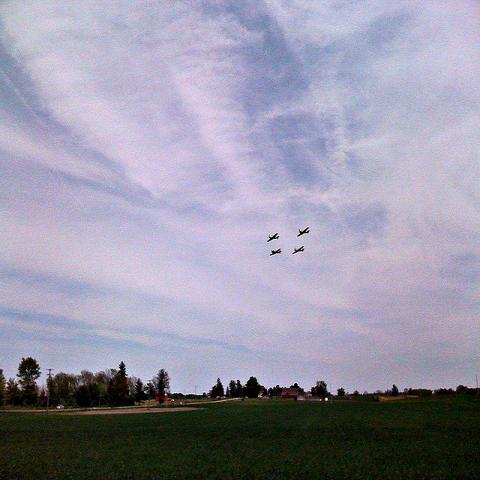car: (56, 404, 64, 410)
